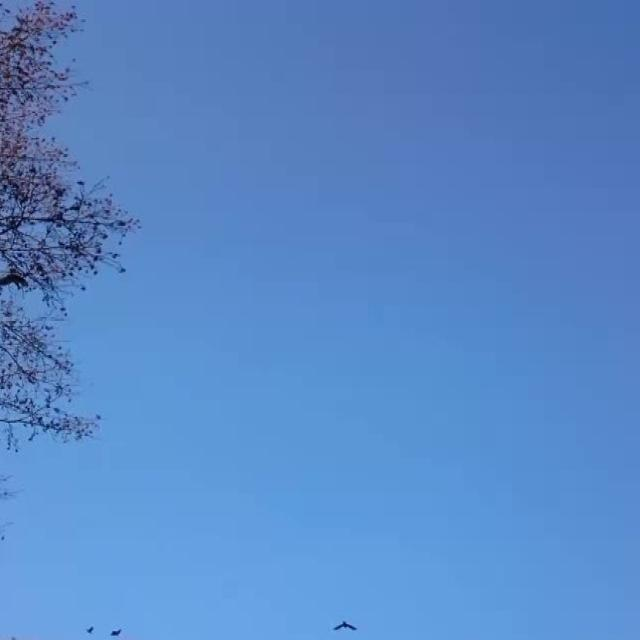bird: (324, 614, 366, 636), (106, 626, 131, 636), (81, 625, 97, 634)
